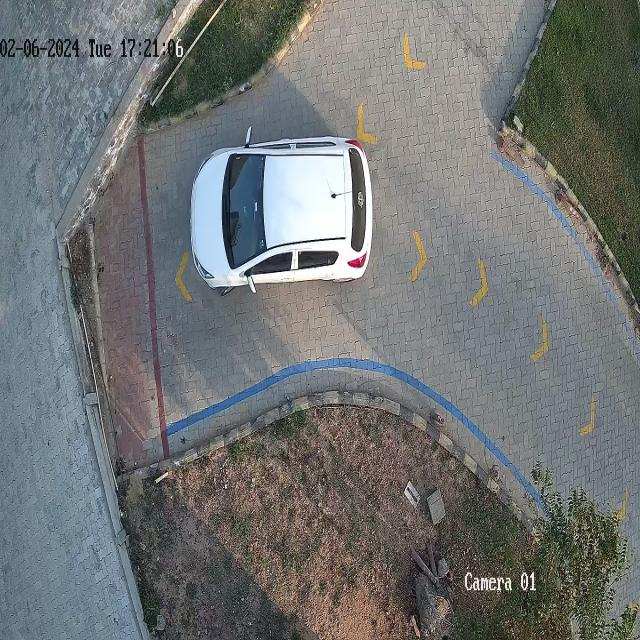car: (190, 136, 374, 290)
